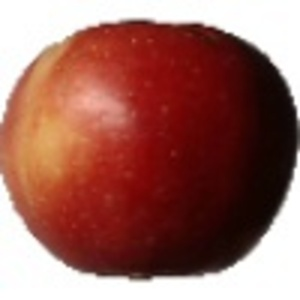maçã braeburn: (1, 15, 299, 280)
